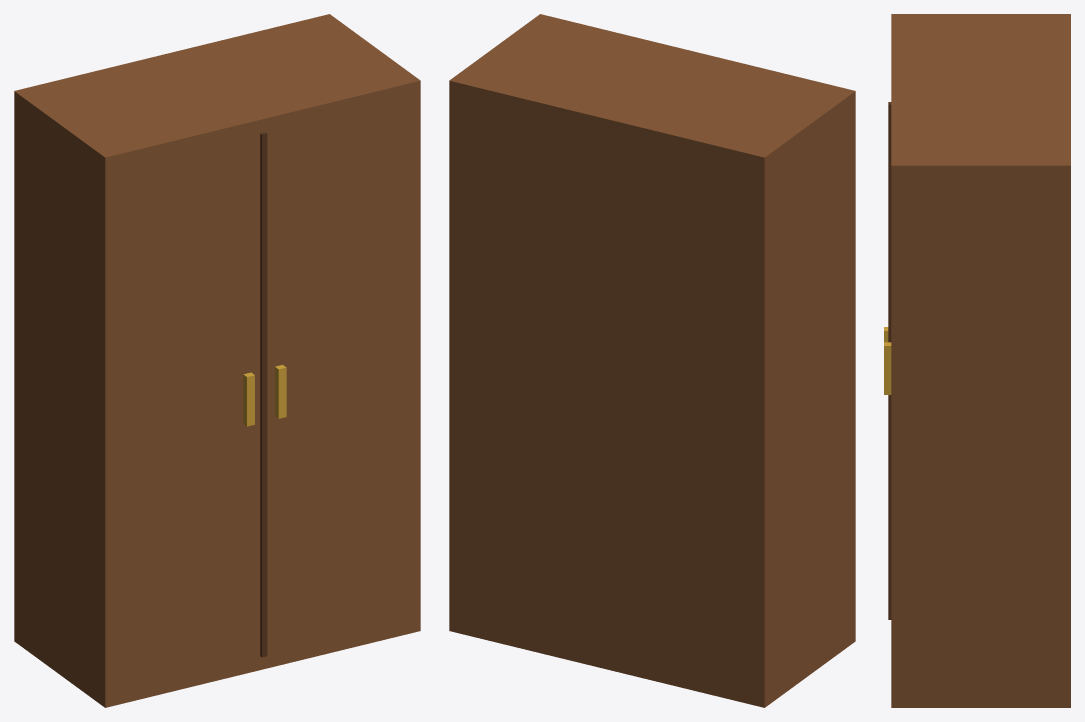
File: wardrobe.glb
The picture shows the model from 3 angles, left to right: view 1: azimuth 30°, elevation 25°; view 2: azimuth 150°, elevation 25°; view 3: azimuth 270°, elevation 25°; orthographic projection.
Parts seen in each view (by area): view 1: wardrobe-8a5a35, wardrobe-5e3b22, wardrobe-d8a93b; view 2: wardrobe-8a5a35; view 3: wardrobe-8a5a35, wardrobe-5e3b22, wardrobe-d8a93b.
Boxes of the visible parts, x1,y1,x2,y2 form: wardrobe-8a5a35: (14,14,420,707); wardrobe-5e3b22: (260,132,267,657); wardrobe-d8a93b: (243,364,286,426); wardrobe-8a5a35: (449,14,855,707); wardrobe-8a5a35: (891,14,1070,707); wardrobe-5e3b22: (888,102,891,619); wardrobe-d8a93b: (884,327,891,394).
Bounding box in the file's own units: 1.2 × 2 × 0.625.
